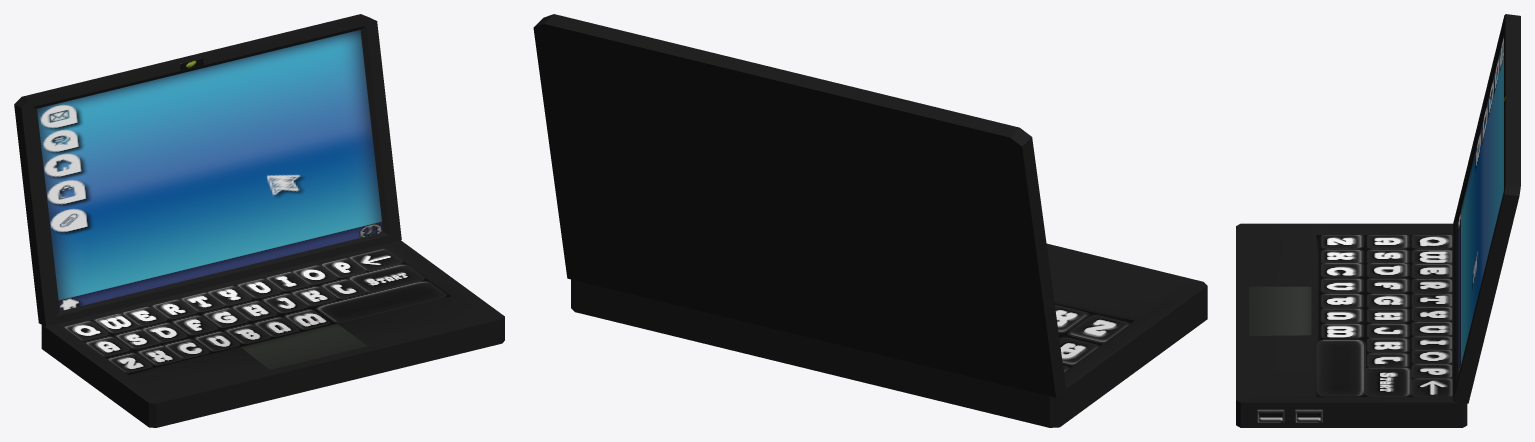
File: Laptop.FBX
3 views of the same model, side by side, from view 1: azimuth 30°, elevation 25°; view 2: azimuth 150°, elevation 25°; view 3: azimuth 270°, elevation 25° (orthographic). The views are drawn at different scales.
Visible parts, largest first — view 1: Laptop; view 2: Laptop; view 3: Laptop.
Part boxes in pixels (<box>): Laptop: <box>14,14,504,427</box>; Laptop: <box>533,14,1207,427</box>; Laptop: <box>1236,14,1520,427</box>.
Size of the model in its own units: 61.53 by 37.92 by 40.94.
